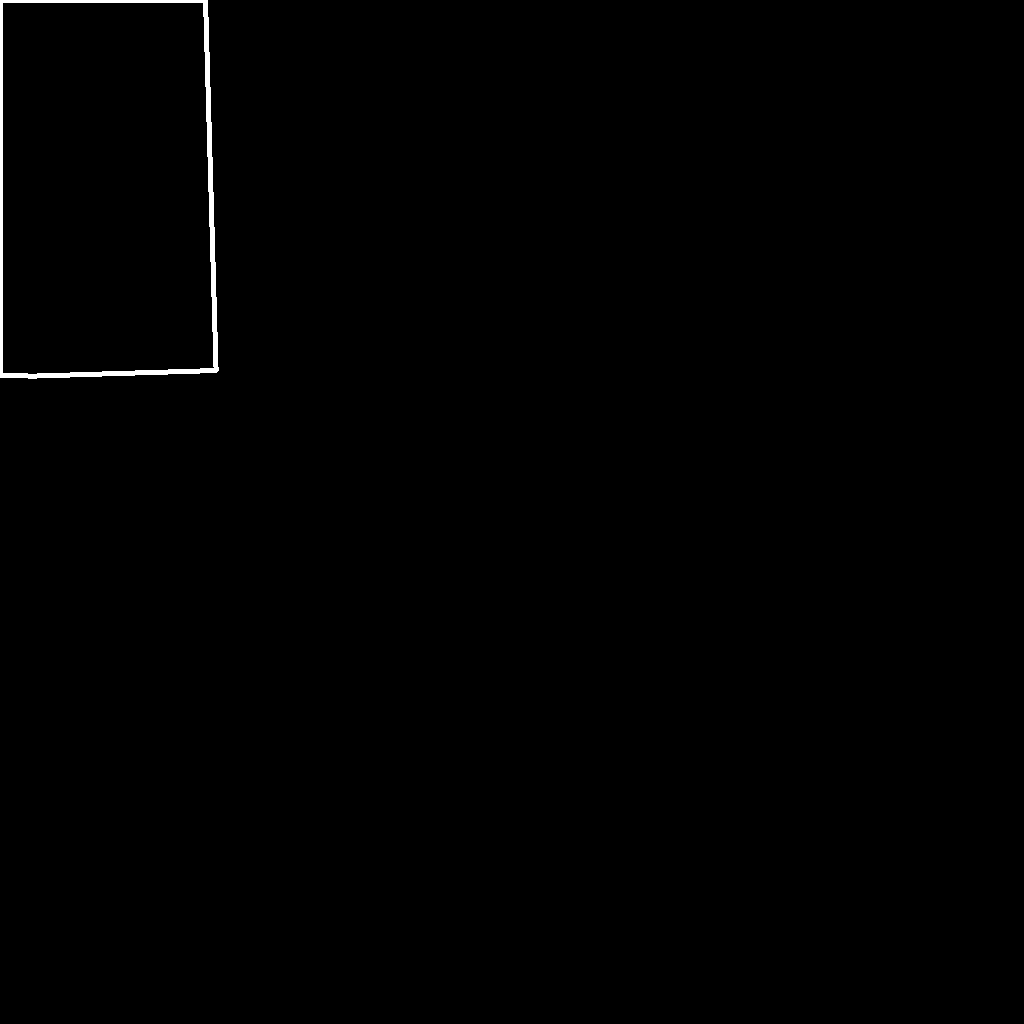building: (0, 0, 217, 377)
